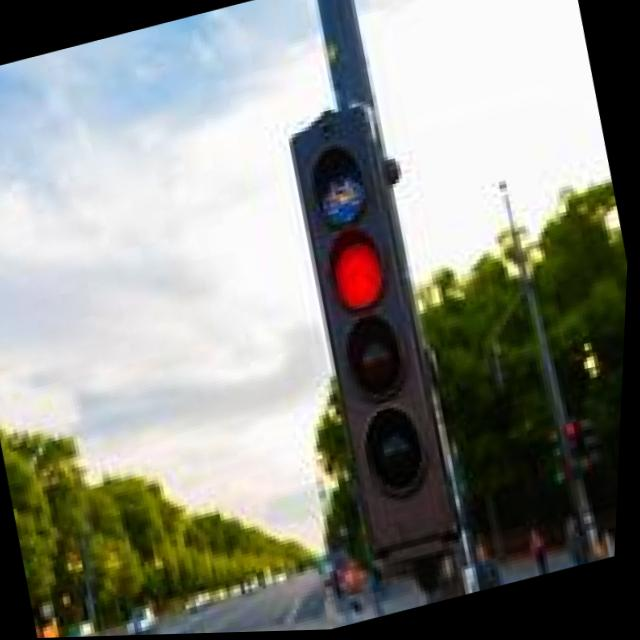red_light: (287, 214, 437, 349)
